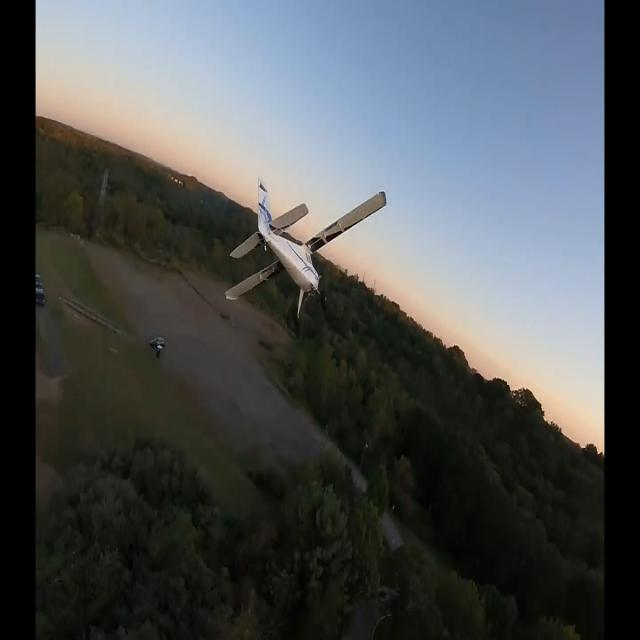iha: (225, 175, 387, 328)
